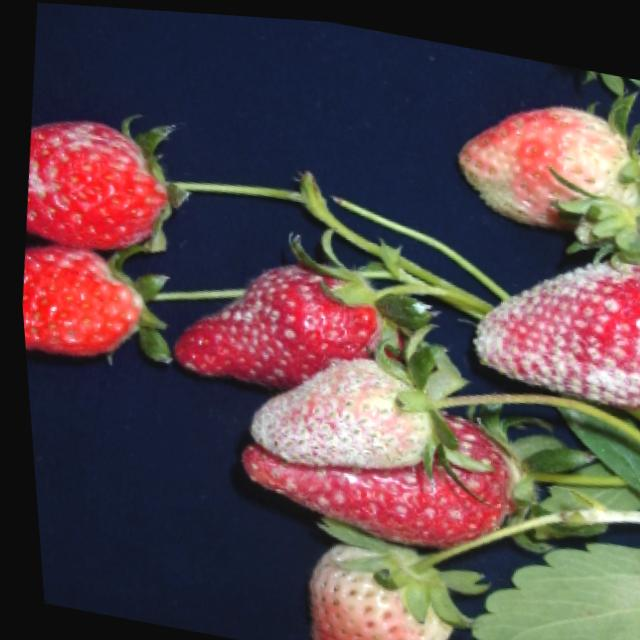Powdery Mildew Fruit: (233, 403, 522, 543), (165, 256, 405, 386), (468, 250, 640, 400), (241, 351, 436, 465), (22, 118, 170, 248), (17, 244, 141, 354)
